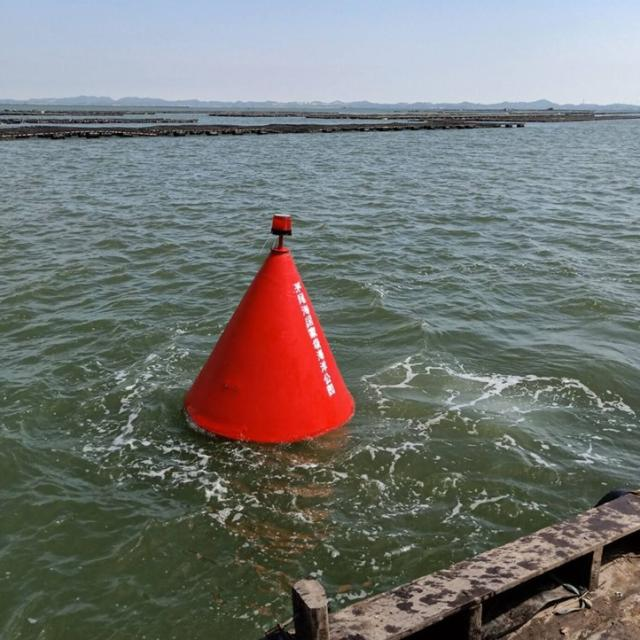buoy: (177, 213, 352, 447)
